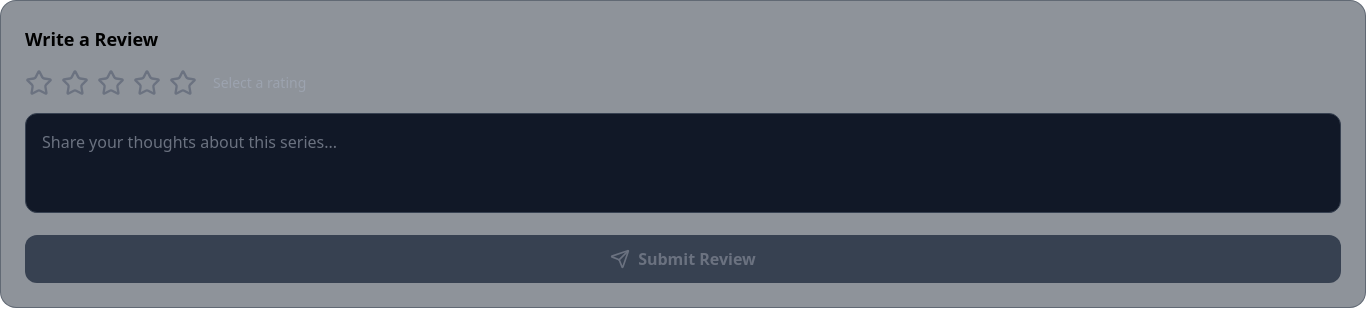
Test case: ReviewForm › requires a rating to enable submit button
Expected: the button "Submit Review" is disabled, 25,235 -> 1341,283
Click the 3rd button. click: point(111, 83)
box: 97,69 -> 125,97
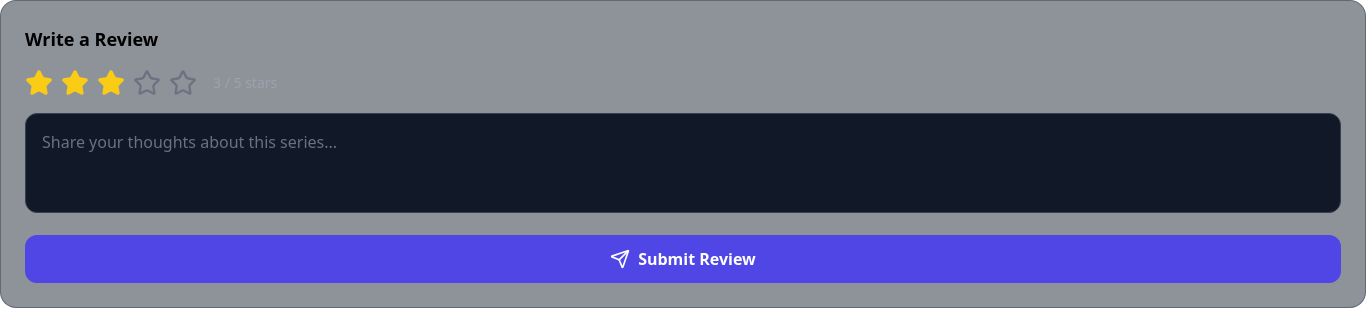
Now the button "Submit Review" is enabled, box 25,235 -> 1341,283
